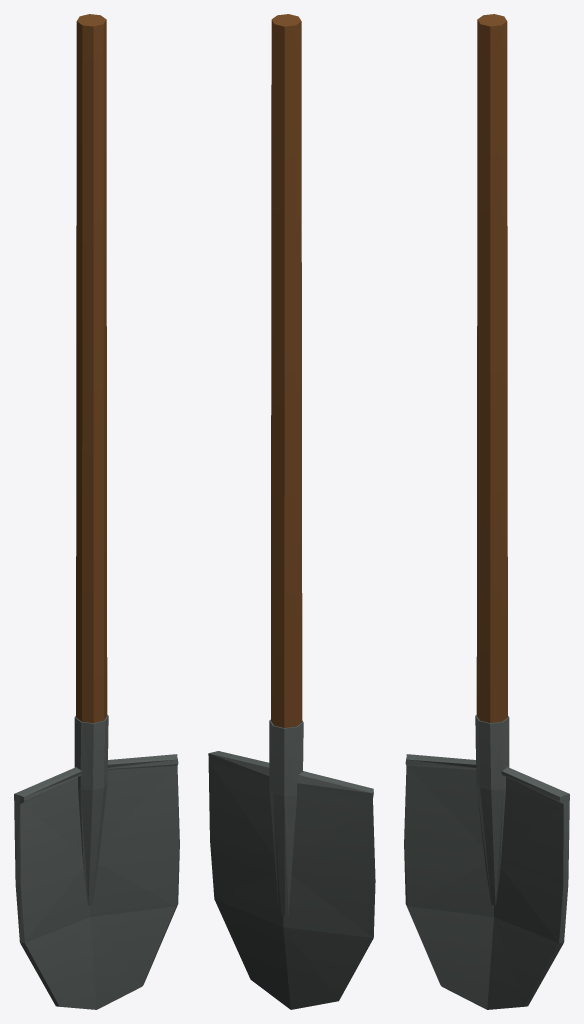
The model's file is Tool_Shovel_02.obj.
The picture shows the model from 3 angles, left to right: view 1: azimuth 30°, elevation 25°; view 2: azimuth 150°, elevation 25°; view 3: azimuth 330°, elevation 25°; orthographic projection.
Visible parts, largest first — view 1: Tool_Shovel_02; view 2: Tool_Shovel_02; view 3: Tool_Shovel_02.
Part boxes in pixels (left/top/right/bottom): Tool_Shovel_02: left=14, top=14, right=179, bottom=1009; Tool_Shovel_02: left=208, top=14, right=375, bottom=1009; Tool_Shovel_02: left=404, top=14, right=569, bottom=1009.
Bounding box in the file's own units: 0.2623 × 1.5 × 0.0487.
1 material, 1 textured.
